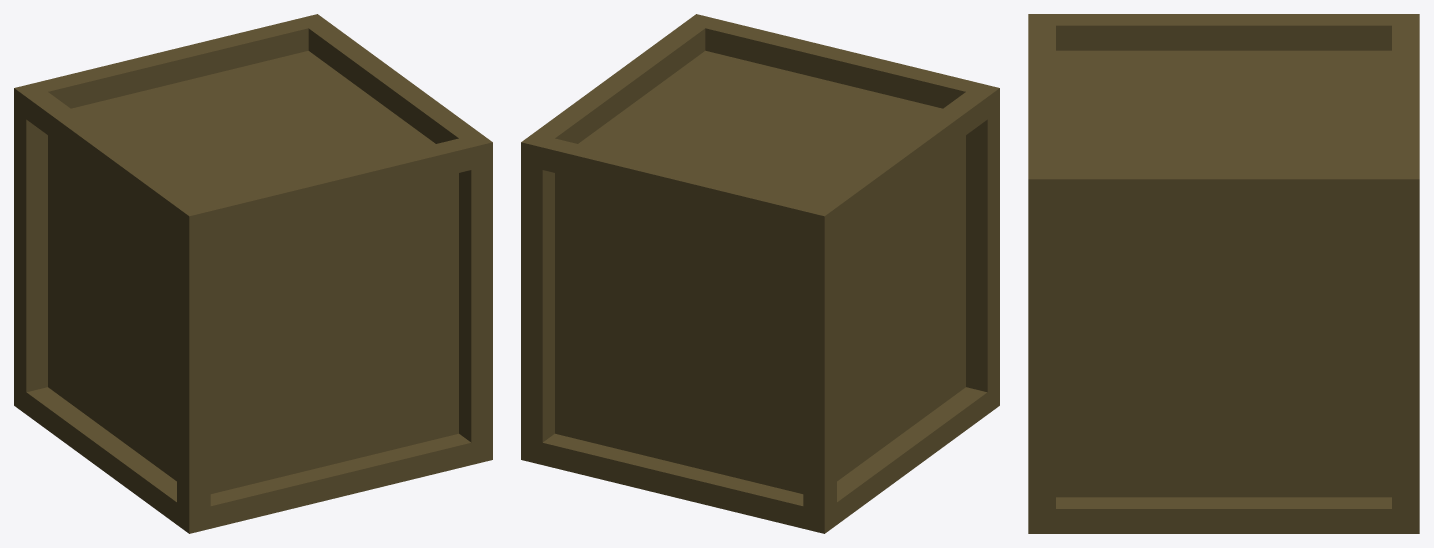
The model's file is Box2withColou.fbx.
3 views of the same model, side by side, from view 1: azimuth 30°, elevation 25°; view 2: azimuth 150°, elevation 25°; view 3: azimuth 270°, elevation 25° (orthographic). The views are drawn at different scales.
Parts seen in each view (by area): view 1: Cube; view 2: Cube; view 3: Cube.
Part boxes in pixels (bbox=[...]): Cube: bbox=[14, 14, 492, 533]; Cube: bbox=[521, 14, 999, 533]; Cube: bbox=[1028, 14, 1419, 533].
Size of the model in its own units: 121 by 121 by 121.
